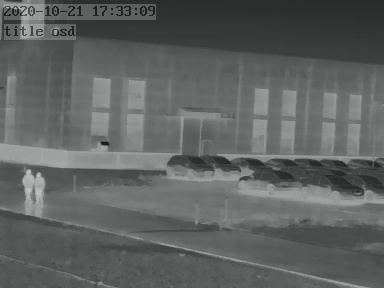person: (22, 169, 34, 201), (34, 172, 45, 204)
vehicle: (237, 169, 302, 194), (306, 173, 358, 200), (164, 153, 212, 179), (203, 153, 242, 177), (349, 173, 382, 200), (232, 154, 270, 171), (261, 155, 296, 169), (347, 156, 380, 170), (295, 156, 324, 169), (318, 156, 347, 169)
